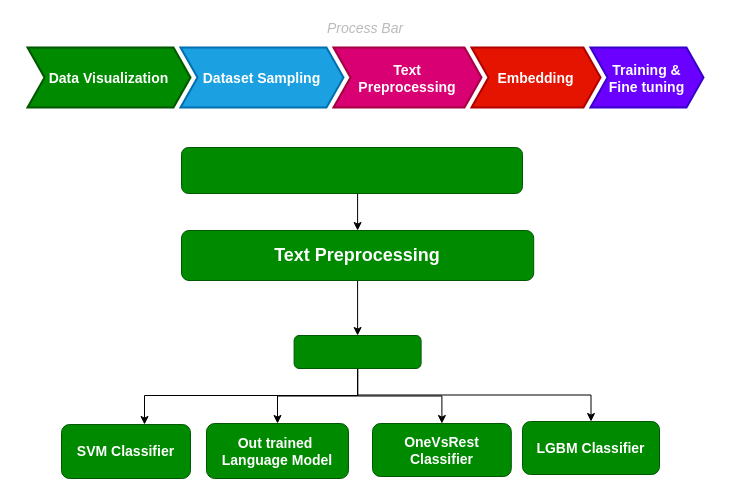
Some shapes in this 730 by 496 pixel diagram are drawn without their labels. Here are the shapes that lost their labels. From the top down, the centre of each, then its label:
the point at 351,170: Plot Sommeries
the point at 357,351: TFIDF
